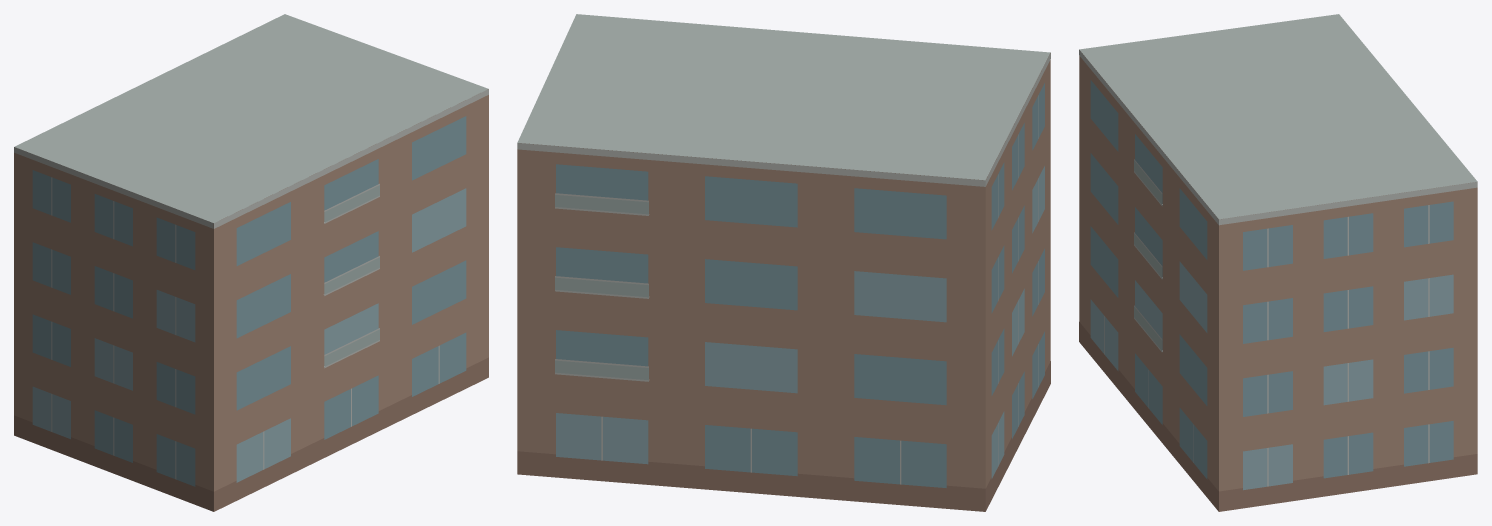
The model's file is survey-upis-32703988.glb.
The picture shows the model from 3 angles, left to right: view 1: azimuth 30°, elevation 25°; view 2: azimuth 150°, elevation 25°; view 3: azimuth 270°, elevation 25°; orthographic projection. The views are drawn at different scales.
Visible parts, largest first — view 1: survey-upis-32703988.tmp; view 2: survey-upis-32703988.tmp; view 3: survey-upis-32703988.tmp.
Part boxes in pixels (bbox=[...]): survey-upis-32703988.tmp: bbox=[14, 14, 488, 511]; survey-upis-32703988.tmp: bbox=[517, 14, 1050, 511]; survey-upis-32703988.tmp: bbox=[1079, 14, 1477, 511].
Size of the model in its own units: 18.39 by 12.2 by 15.08.
